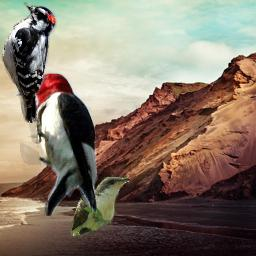Cuckoo: (70, 176, 130, 237)
Woodpecker: (13, 72, 99, 216), (1, 2, 58, 123)
